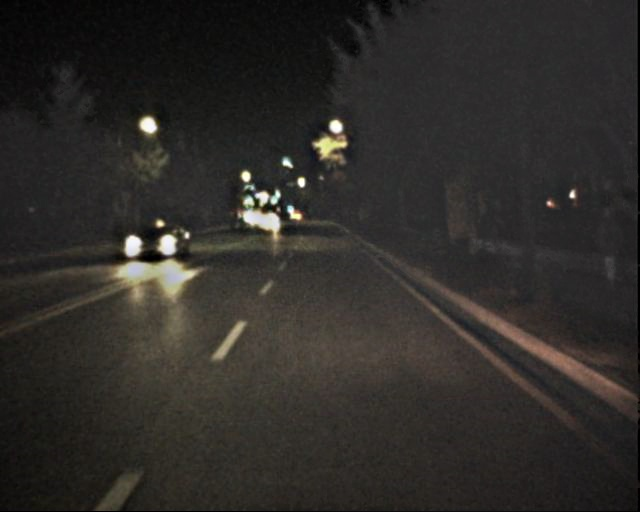person: (592, 205, 627, 290)
